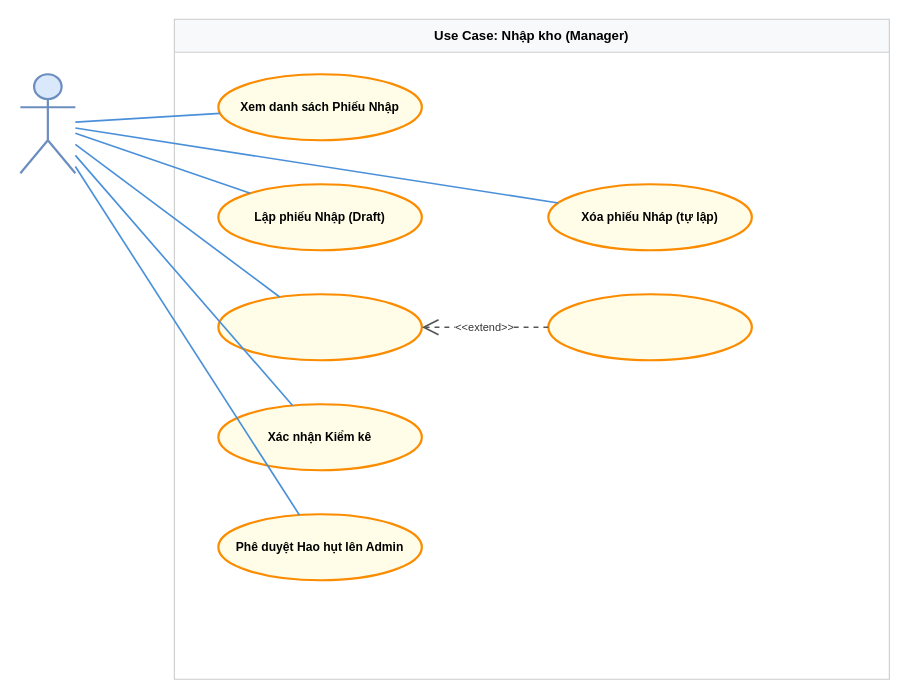
The diagram is 909 pixels wide and 699 high, and some of its shapes have lost their labels. The centre of each missing label's shape, as x and y in pixels:
"Duyệt yêu cầu Nhập kho" belongs at point 319,327.
"Hủy phiếu đã xử lý" belongs at point 649,327.
"Manager" belongs at point 47,123.
